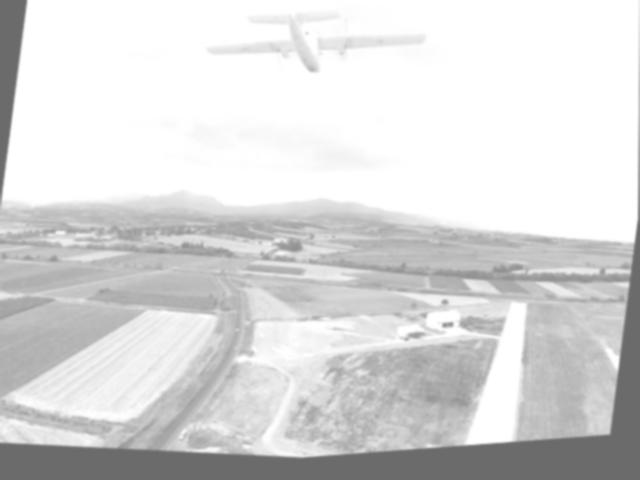hedef: (198, 0, 433, 112)
